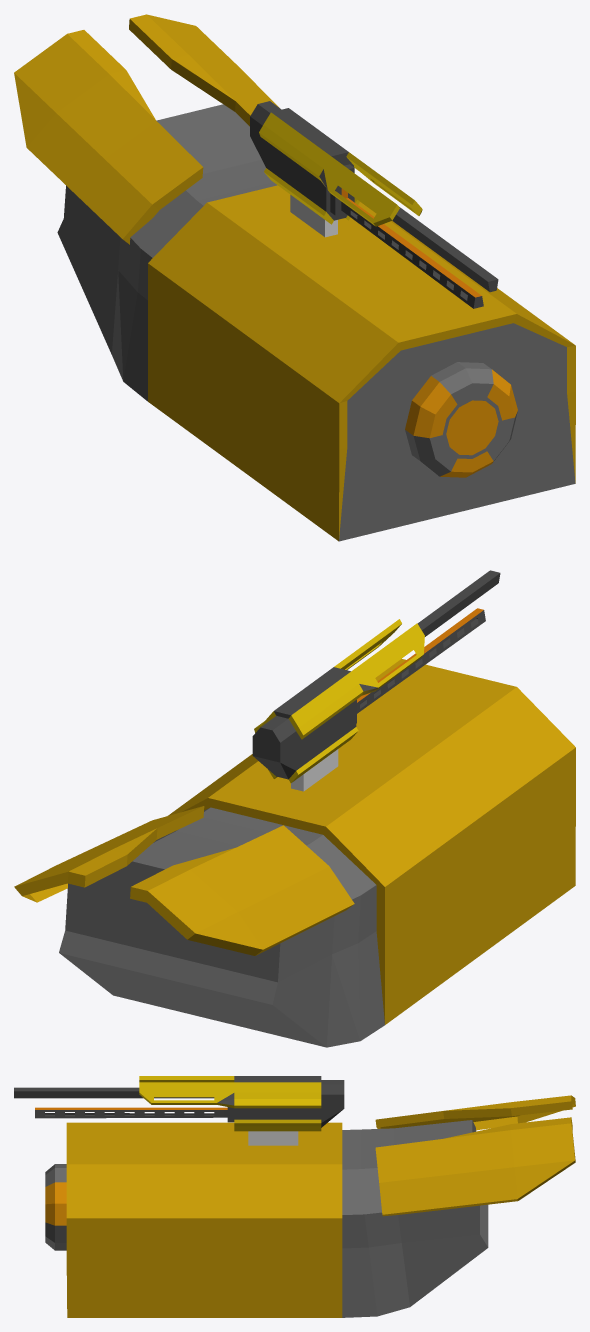
Rendered from EnemyChainShot.fbx.
3 renders of one model, top to bottom at view 1: azimuth 30°, elevation 25°; view 2: azimuth 150°, elevation 25°; view 3: azimuth 270°, elevation 25°, orthographic. The views are drawn at different scales.
Parts seen in each view (by area): view 1: Body, Gun; view 2: Body, Gun; view 3: Body, Gun.
Boxes of the visible parts, x1,y1,x2,y2 form: Body: (14,14,575,541); Gun: (250,101,498,308); Body: (14,658,575,1047); Gun: (252,570,500,782); Body: (45,1095,575,1317); Gun: (14,1076,344,1131).
Size of the model in its own units: 47.57 by 52.57 by 136.
